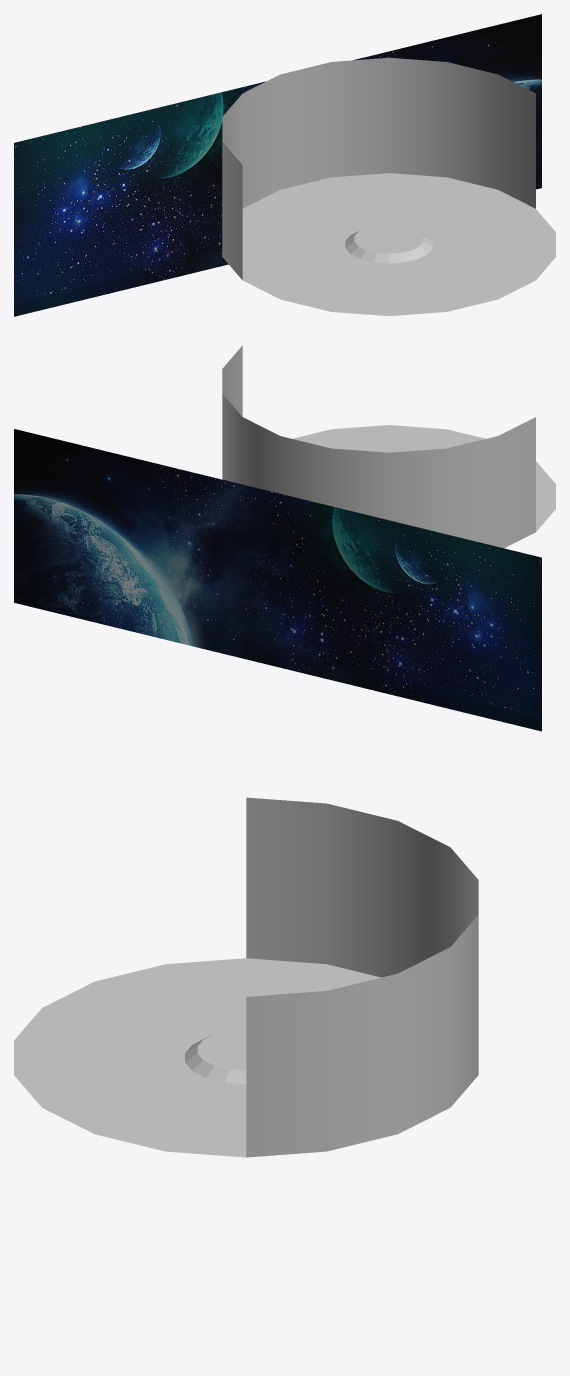
File: stage_second.FBX
The picture shows the model from 3 angles, top to bottom: view 1: azimuth 30°, elevation 25°; view 2: azimuth 150°, elevation 25°; view 3: azimuth 270°, elevation 25°; orthographic projection. The views are drawn at different scales.
Visible parts, largest first — view 1: Cylinder001, Plane001; view 2: Plane001, Cylinder001; view 3: Cylinder001.
Part boxes in pixels (x1,y1,x2,y2): Cylinder001: [222, 57, 555, 316]; Plane001: [14, 14, 541, 316]; Plane001: [14, 429, 541, 731]; Cylinder001: [222, 345, 555, 548]; Cylinder001: [14, 797, 478, 1157].
Bounding box in the file's own units: 270 × 99.97 × 172.
